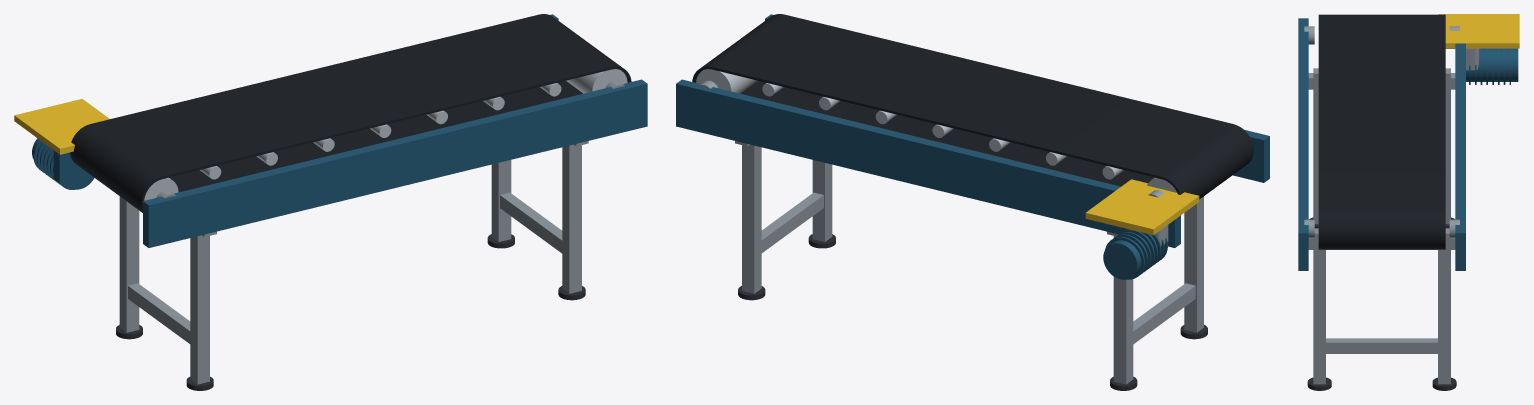
The picture shows the model from 3 angles, left to right: view 1: azimuth 30°, elevation 25°; view 2: azimuth 150°, elevation 25°; view 3: azimuth 270°, elevation 25°; orthographic projection. The views are drawn at different scales.
Visible parts, largest first — view 1: Continuous_rubber_belt, Front_chassis_rail, Left_front_leg, Right_front_leg, Frame_cross_braces, Drive_guard, Left_rear_leg, Right_rear_leg, Motor_finned_housing, Tension_drum, Rear_chassis_rail; view 2: Continuous_rubber_belt, Rear_chassis_rail, Drive_guard, Right_rear_leg, Frame_cross_braces, Motor_finned_housing, Left_front_leg, Left_rear_leg, Right_front_leg, Front_chassis_rail, Tension_drum; view 3: Continuous_rubber_belt, Front_chassis_rail, Drive_guard, Rear_chassis_rail, Right_rear_leg, Right_front_leg, Frame_cross_braces, Motor_finned_housing, Left_front_leg, Left_rear_leg, Upper_frame_crossmembers, Tension_bearing_pair (+4 smaller).
Part boxes in pixels (x1=…): Continuous_rubber_belt: x1=70, y1=14, x2=631, y2=212; Front_chassis_rail: x1=143, y1=79, x2=647, y2=247; Left_front_leg: x1=190, y1=235, x2=209, y2=384; Right_front_leg: x1=562, y1=144, x2=581, y2=293; Frame_cross_braces: x1=128, y1=192, x2=562, y2=343; Drive_guard: x1=14, y1=99, x2=109, y2=154; Left_rear_leg: x1=119, y1=196, x2=139, y2=332; Right_rear_leg: x1=491, y1=160, x2=511, y2=241; Motor_finned_housing: x1=32, y1=138, x2=94, y2=189; Tension_drum: x1=566, y1=69, x2=627, y2=93; Rear_chassis_rail: x1=53, y1=14, x2=558, y2=182; Continuous_rubber_belt: x1=692, y1=14, x2=1253, y2=199; Rear_chassis_rail: x1=676, y1=79, x2=1180, y2=247; Drive_guard: x1=1085, y1=179, x2=1199, y2=235; Right_rear_leg: x1=742, y1=144, x2=761, y2=293; Frame_cross_braces: x1=761, y1=192, x2=1195, y2=344; Motor_finned_housing: x1=1103, y1=229, x2=1167, y2=279; Left_front_leg: x1=1184, y1=196, x2=1203, y2=332; Left_rear_leg: x1=1113, y1=236, x2=1133, y2=384; Right_front_leg: x1=812, y1=160, x2=832, y2=241; Front_chassis_rail: x1=765, y1=14, x2=1269, y2=182; Tension_drum: x1=696, y1=69, x2=757, y2=93; Continuous_rubber_belt: x1=1318, y1=14, x2=1445, y2=249; Front_chassis_rail: x1=1298, y1=18, x2=1308, y2=270; Drive_guard: x1=1438, y1=14, x2=1519, y2=48; Rear_chassis_rail: x1=1455, y1=43, x2=1465, y2=270; Right_rear_leg: x1=1438, y1=228, x2=1450, y2=384; Right_front_leg: x1=1313, y1=228, x2=1325, y2=384; Frame_cross_braces: x1=1326, y1=338, x2=1437, y2=353; Motor_finned_housing: x1=1466, y1=48, x2=1518, y2=84; Left_front_leg: x1=1313, y1=68, x2=1318, y2=224; Left_rear_leg: x1=1445, y1=68, x2=1450, y2=224; Upper_frame_crossmembers: x1=1308, y1=73, x2=1455, y2=249; Tension_bearing_pair: x1=1304, y1=219, x2=1459, y2=237.
Size of the model in its own units: 2.24 by 0.92 by 0.9575.
